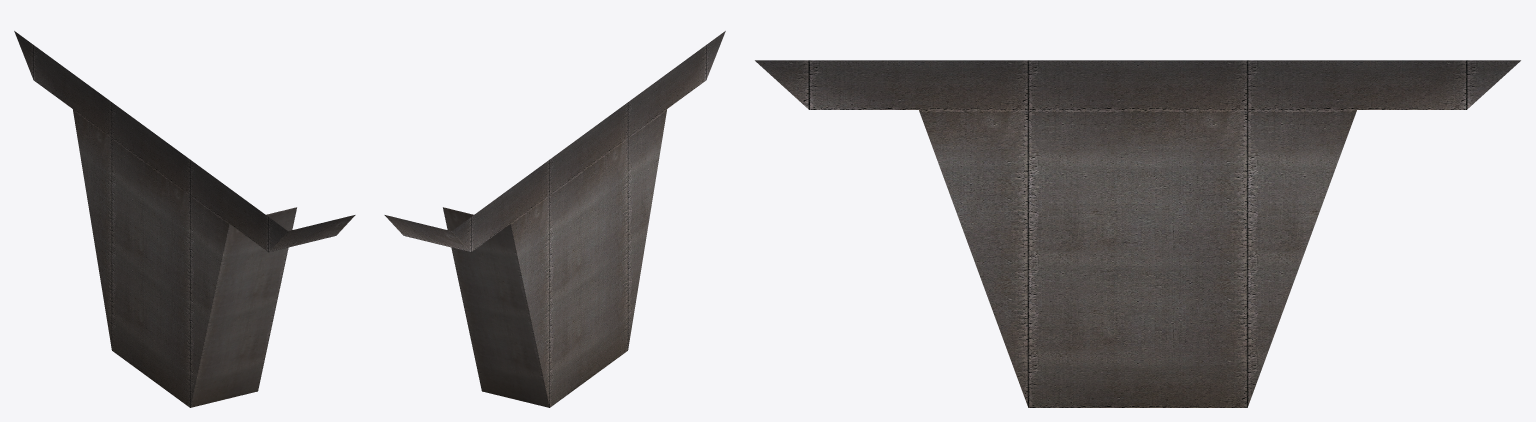
Rendered from M10_Z1_FlyOver3.glb.
3 views of the same model, side by side, from view 1: azimuth 30°, elevation 25°; view 2: azimuth 150°, elevation 25°; view 3: azimuth 270°, elevation 25° (orthographic). The views are drawn at different scales.
Visible parts, largest first — view 1: M10_Z1_FLYOVER3; view 2: M10_Z1_FLYOVER3; view 3: M10_Z1_FLYOVER3.
Boxes of the visible parts, x1,y1,x2,y2 form: M10_Z1_FLYOVER3: (14, 31, 355, 407); M10_Z1_FLYOVER3: (384, 31, 725, 407); M10_Z1_FLYOVER3: (755, 60, 1520, 407).
Bounding box in the file's own units: 2 × 7 × 14.
Materials: 2 (2 with a texture image).
